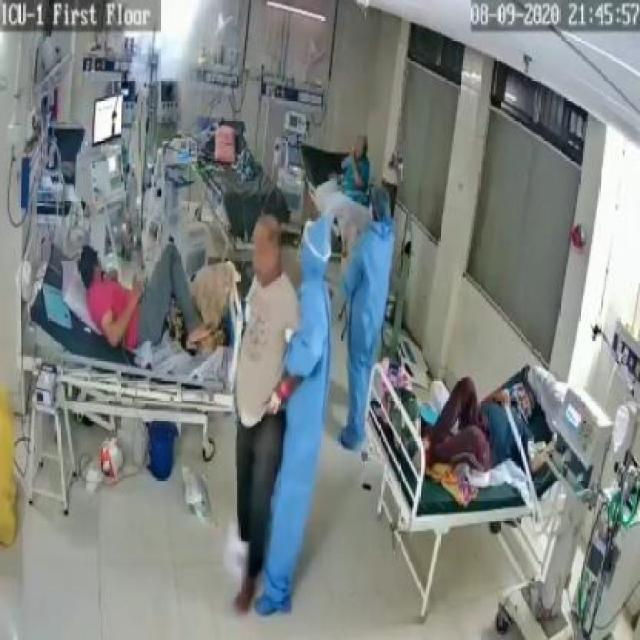smoke: (132, 1, 194, 87)
